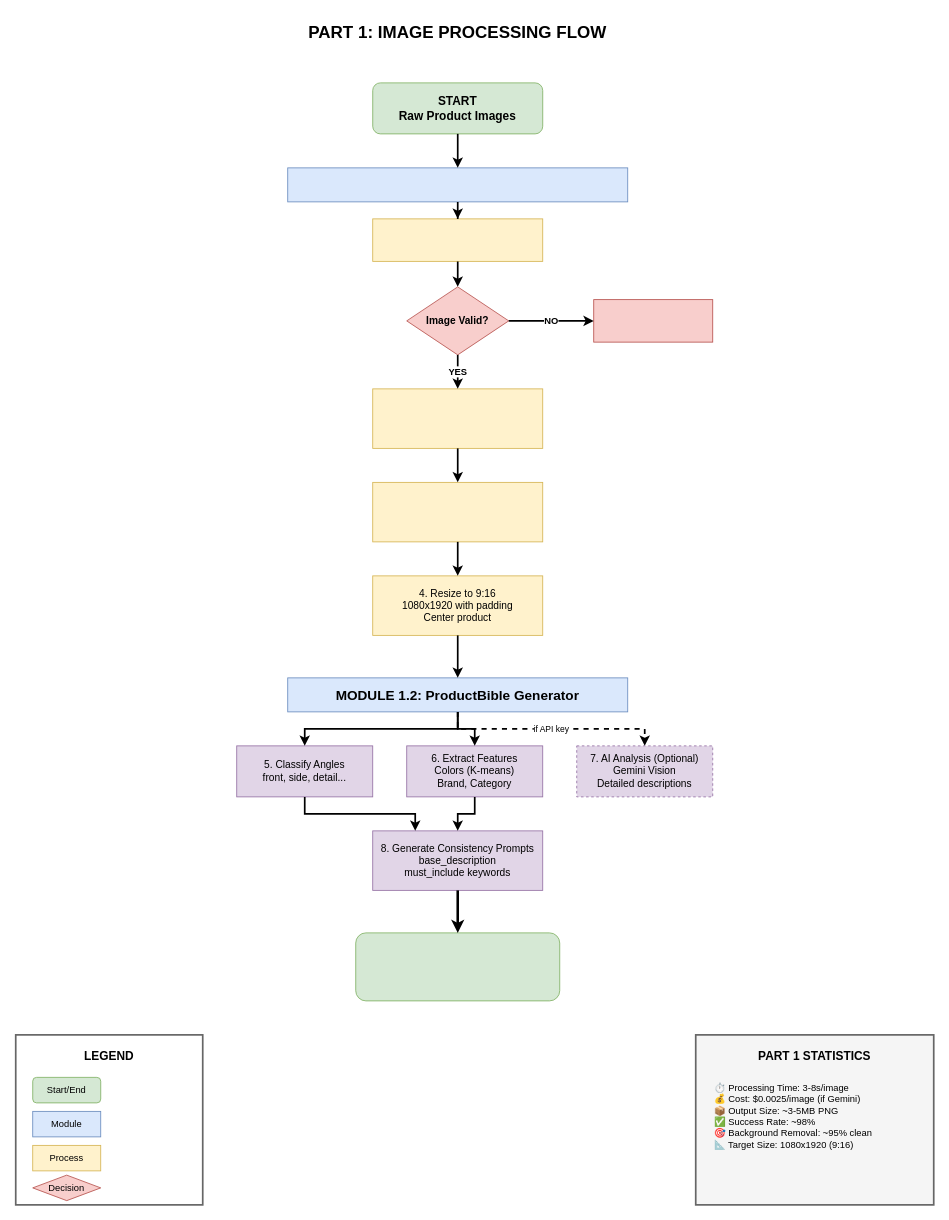
The diagram is 949 pixels wide and 1220 high, and some of its shapes have lost their labels. The shapes that lost their labels are listed below. From the top down, each one's centre as x and y in pixels, then its label:
(457,184): MODULE 1.1: ImageProcessor
(457,239): 1. Load Image cv2.imread()
(653,320): ERROR Raise FileNotFoundError
(457,418): 2. Enhance Image CLAHE (OpenCV) LAB color space
(457,512): 3. Remove Background rembg.remove() Output: RGBA
(457,966): OUTPUT Product Bible JSON {angles, features, consistency_prompts}
